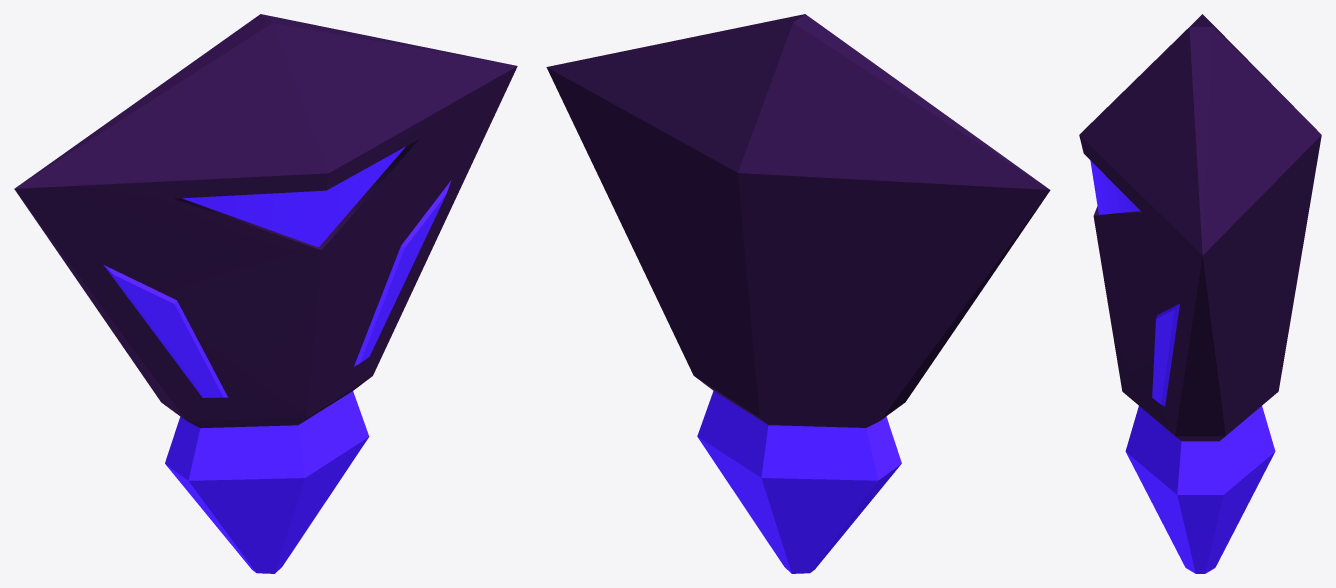
The model's file is shield.glb.
3 renders of one model, left to right at view 1: azimuth 30°, elevation 25°; view 2: azimuth 150°, elevation 25°; view 3: azimuth 270°, elevation 25°, orthographic.
Visible parts, largest first — view 1: shield body; view 2: shield body; view 3: shield body.
Boxes of the visible parts, x1,y1,x2,y2 form: shield body: (14,14,517,573); shield body: (546,14,1050,573); shield body: (1079,14,1321,573).
Size of the model in its own units: 2.76 by 2.88 by 1.17.
